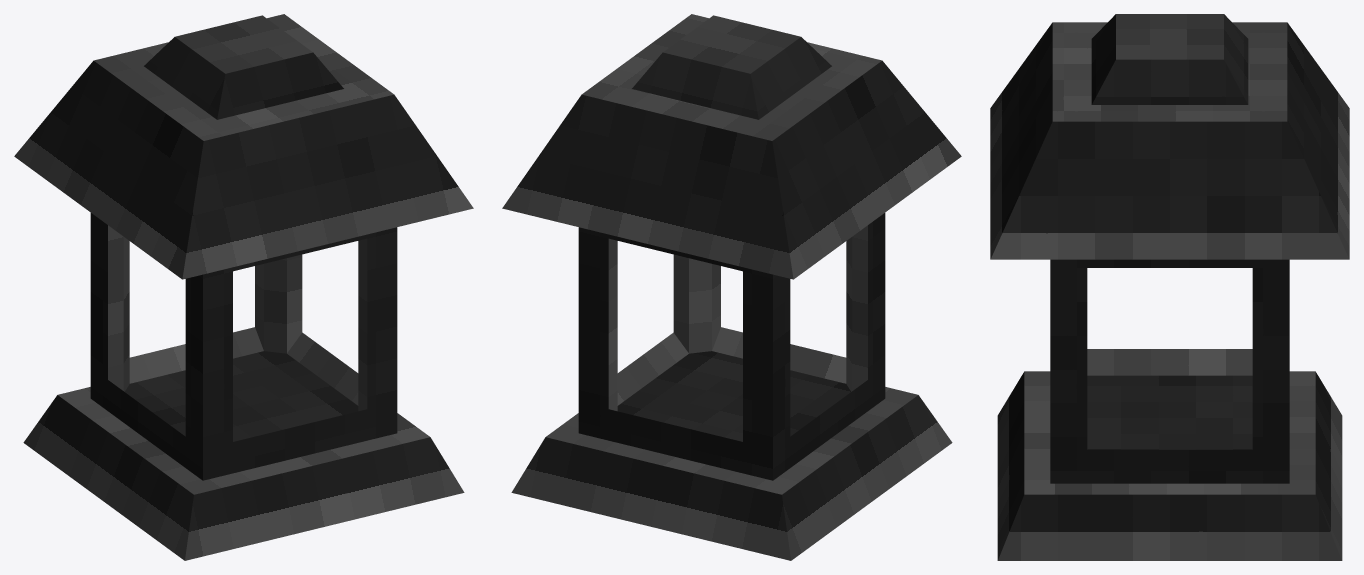
File: Lamparina.fbx
3 views of the same model, side by side, from view 1: azimuth 30°, elevation 25°; view 2: azimuth 150°, elevation 25°; view 3: azimuth 270°, elevation 25° (orthographic). The views are drawn at different scales.
Visible parts, largest first — view 1: Cube.160; view 2: Cube.160; view 3: Cube.160.
Boxes of the visible parts, <box> form: Cube.160: <box>14,14,473,560</box>; Cube.160: <box>502,14,961,560</box>; Cube.160: <box>990,14,1349,560</box>.
Size of the model in its own units: 60.19 by 83.5 by 60.19.
Materials: 1 (1 with a texture image).
